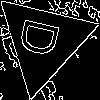D: (18, 16, 69, 61)
